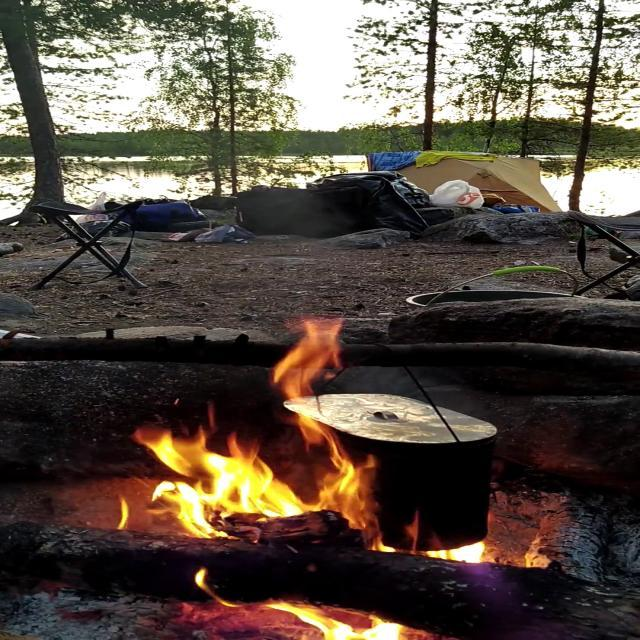Fire: (104, 408, 390, 552), (194, 590, 418, 640), (450, 533, 548, 569)
